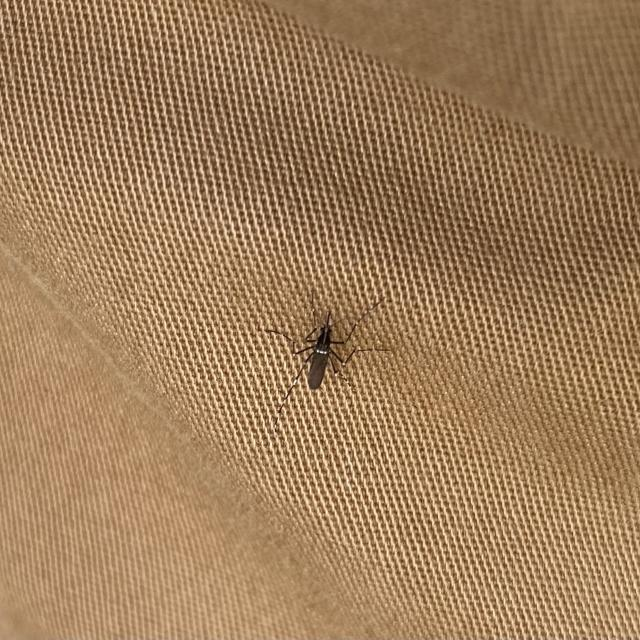albopictus: (260, 291, 396, 420)
